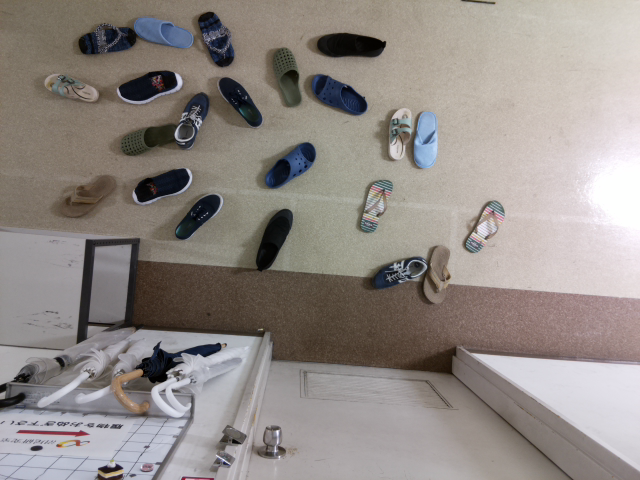Copy of Copy of Copy of Copy of Copy of Copy of Copy of Copy of Copy of Copy of: (215, 75, 262, 128), (255, 208, 293, 271), (173, 91, 211, 149), (116, 70, 181, 103), (369, 256, 429, 288), (317, 31, 386, 57)
Copy of Copy of Copy of Copy of Copy of Copy of Copy of Copy of Copy of slipper: (132, 167, 192, 205)
Copy of Copy of Copy of Copy of Copy of Copy of Copy of Copy of slipper: (174, 192, 223, 240)
Copy of Copy of Copy of Copy of Copy of Copy of Copy of slipper: (59, 174, 115, 218)
Copy of Copy of Copy of Copy of Copy of Copy of slipper: (43, 73, 99, 102)
Copy of Copy of Copy of Copy of Copy of slipper: (133, 16, 193, 48), (78, 22, 136, 54)
Copy of Copy of Copy of Copy of slipper: (197, 10, 235, 67), (412, 110, 438, 169)
Copy of Copy of Copy of slipper: (120, 123, 176, 156), (387, 107, 412, 161)
Copy of Copy of slipper: (271, 46, 302, 107), (422, 245, 450, 305)
Copy of slipper: (310, 72, 368, 114), (359, 180, 393, 233)
slipper: (265, 142, 316, 188), (464, 200, 504, 254)
